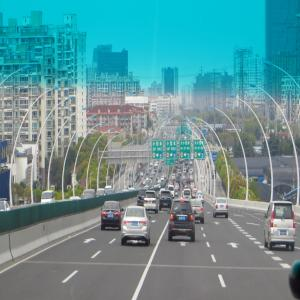Vehicle-registration-plate: (132, 222, 139, 226)
